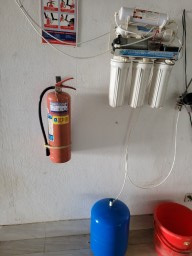fire_extinguisher: (57, 154, 123, 197)
